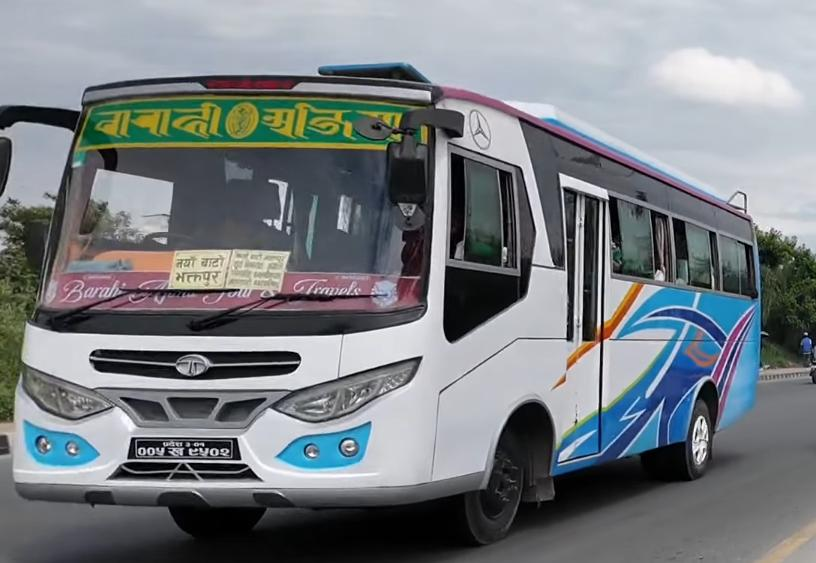bus: (6, 34, 781, 537)
